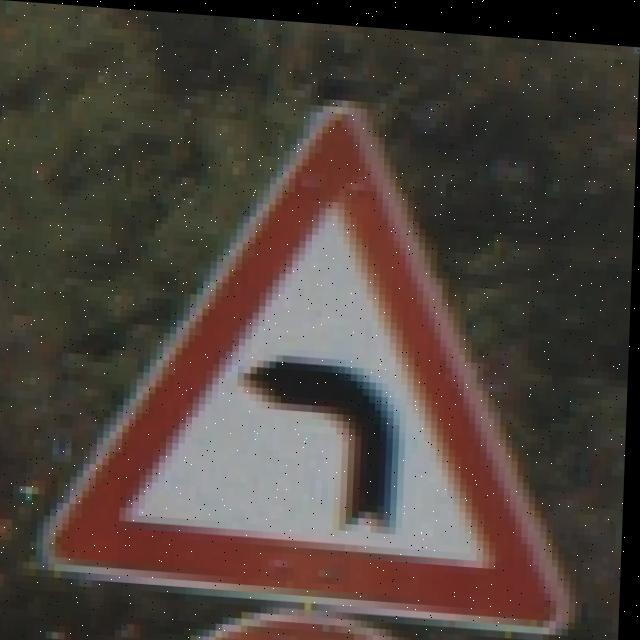left_turn: (47, 90, 598, 640)
